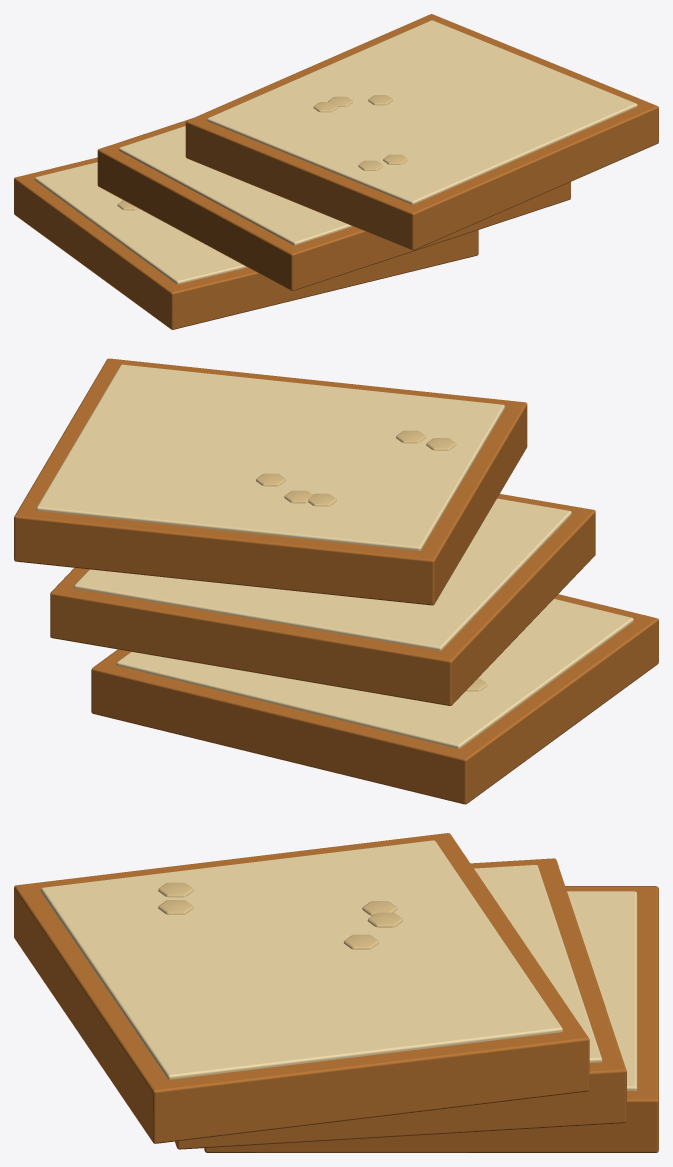
File: Bread_Sliced.glb
The picture shows the model from 3 angles, top to bottom: view 1: azimuth 30°, elevation 25°; view 2: azimuth 150°, elevation 25°; view 3: azimuth 270°, elevation 25°; orthographic projection. The views are drawn at different scales.
Visible parts, largest first — view 1: Bread_Sliced; view 2: Bread_Sliced; view 3: Bread_Sliced.
Part boxes in pixels (box(x1,y1,x2,y2)): Bread_Sliced: box(14, 14, 658, 329); Bread_Sliced: box(14, 358, 658, 804); Bread_Sliced: box(14, 833, 658, 1152).
Size of the model in its own units: 0.1436 by 0.0377 by 0.1192.
